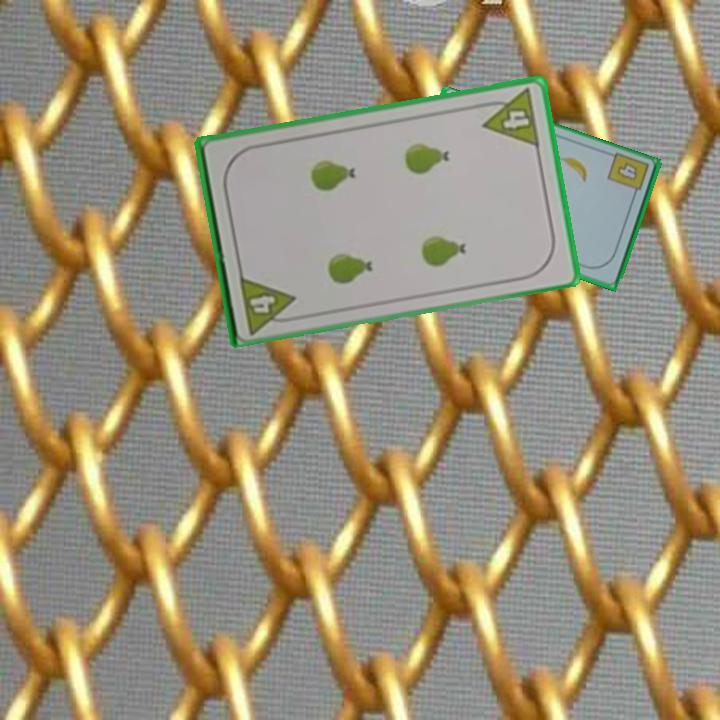4b: (604, 149, 652, 202)
4p: (476, 85, 543, 150), (236, 271, 301, 335)
